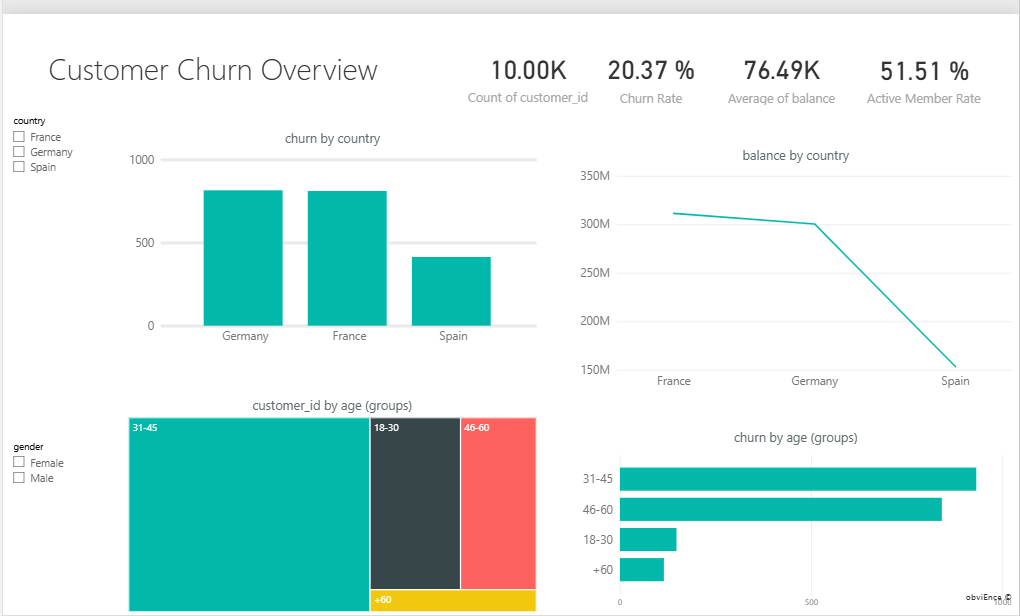

Layout of this report page (visuals, bound fields, positions):
{"tool":"powerbi","page":{"name":"Customer Churn Overview","canvas":[1280,720],"ordinal":0},"visuals":[{"type":"textbox","box":[9.4,0,510.1,62.4],"z":0},{"type":"textbox","box":[1139.6,680.7,136.7,38.9],"z":1000},{"type":"slicer","fields":{"Values":["Bank Customer Churn Prediction.country"]},"box":[0,82.7,165.5,384.9],"z":2000},{"type":"slicer","fields":{"Values":["Bank Customer Churn Prediction.gender"]},"box":[0,493.9,150.4,142.9],"z":3000},{"type":"card","fields":{"Values":["CountNonNull(Bank Customer Churn Prediction.customer_id)"]},"box":[577.9,0,165.5,80.2],"z":4000},{"type":"card","fields":{"Values":["Bank Customer Churn Prediction.Churn Rate"]},"box":[730.9,0,169.2,81.5],"z":5000},{"type":"card","fields":{"Values":["Bank Customer Churn Prediction.Active Member Rate"]},"box":[1063.1,0,191.8,82.7],"z":6000},{"type":"card","fields":{"Values":["Avg(Bank Customer Churn Prediction.balance)"]},"box":[898.9,0,161.7,81.5],"z":7000},{"type":"lineClusteredColumnComboChart","fields":{"Category":["Bank Customer Churn Prediction.country"],"Y":["Sum(Bank Customer Churn Prediction.churn)"]},"box":[152.9,107.8,524,280.8],"z":8000},{"type":"lineClusteredColumnComboChart","fields":{"Category":["Bank Customer Churn Prediction.country"],"Y2":["Sum(Bank Customer Churn Prediction.balance)"]},"box":[721.9,128.5,553.7,315.6],"z":9000},{"type":"treemap","fields":{"Group":["Bank Customer Churn Prediction.age (groups)"],"Values":["Sum(Bank Customer Churn Prediction.customer_id)"]},"box":[153.1,444.1,523.5,275.9],"z":10000},{"type":"clusteredBarChart","fields":{"Category":["Bank Customer Churn Prediction.age (groups)"],"Y":["Sum(Bank Customer Churn Prediction.churn)"]},"box":[721.9,483.8,553.7,236.2],"z":11000}]}

Visuals, with their boxes on the page's 1280x720 design canvas (x1, y1, x2, y2). These are canvas units, not pixel positions in the 1020x616 screenshot, which may show the page scaled, cropped or inside an application window:
textbox: 9:0:520:62
textbox: 1140:681:1276:720
slicer - Bank Customer Churn Prediction.country: 0:83:166:468
slicer - Bank Customer Churn Prediction.gender: 0:494:150:637
card - CountNonNull(Bank Customer Churn Prediction.customer_id): 578:0:743:80
card - Bank Customer Churn Prediction.Churn Rate: 731:0:900:82
card - Bank Customer Churn Prediction.Active Member Rate: 1063:0:1255:83
card - Avg(Bank Customer Churn Prediction.balance): 899:0:1061:82
lineClusteredColumnComboChart - Bank Customer Churn Prediction.country x Sum(Bank Customer Churn Prediction.churn): 153:108:677:389
lineClusteredColumnComboChart - Bank Customer Churn Prediction.country x Sum(Bank Customer Churn Prediction.balance): 722:128:1276:444
treemap - Bank Customer Churn Prediction.age (groups) x Sum(Bank Customer Churn Prediction.customer_id): 153:444:677:720
clusteredBarChart - Bank Customer Churn Prediction.age (groups) x Sum(Bank Customer Churn Prediction.churn): 722:484:1276:720
